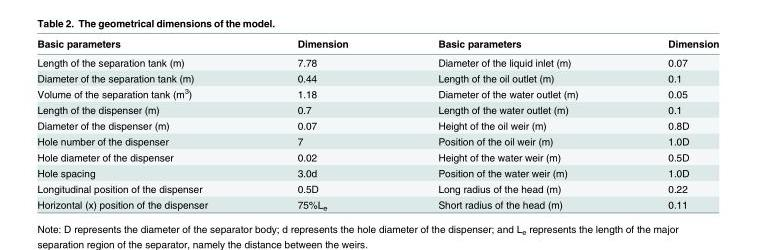table: (36, 37, 718, 210)
table column: (392, 37, 622, 210), (36, 37, 251, 210), (251, 37, 392, 210), (622, 37, 718, 210)
table column header: (36, 37, 718, 52)
table row: (36, 52, 718, 70), (36, 85, 718, 101), (36, 101, 718, 117), (36, 117, 718, 133), (36, 148, 718, 164), (36, 164, 718, 180), (36, 180, 718, 196), (36, 37, 718, 52), (36, 70, 718, 85), (36, 133, 718, 148), (36, 196, 718, 210)
